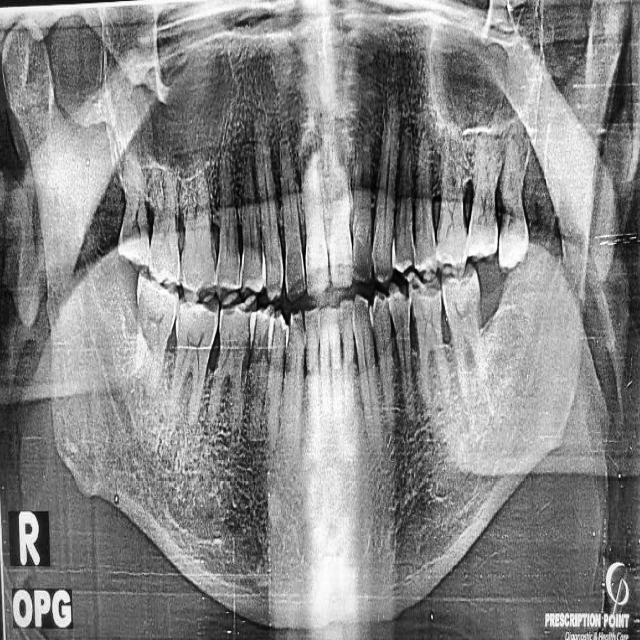karies: (389, 282, 416, 308)
